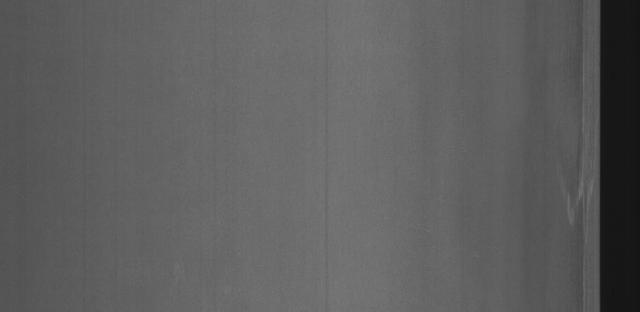silk_spot: (544, 16, 599, 244)
